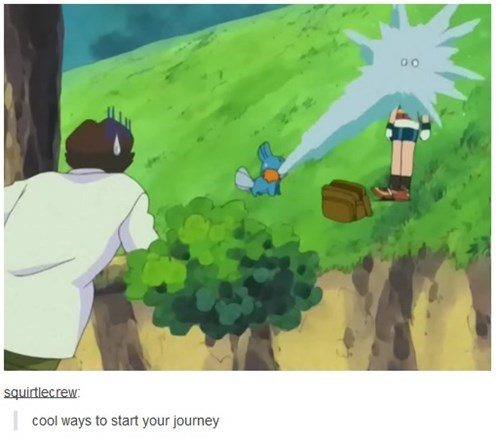mudkip: (231, 141, 288, 199)
